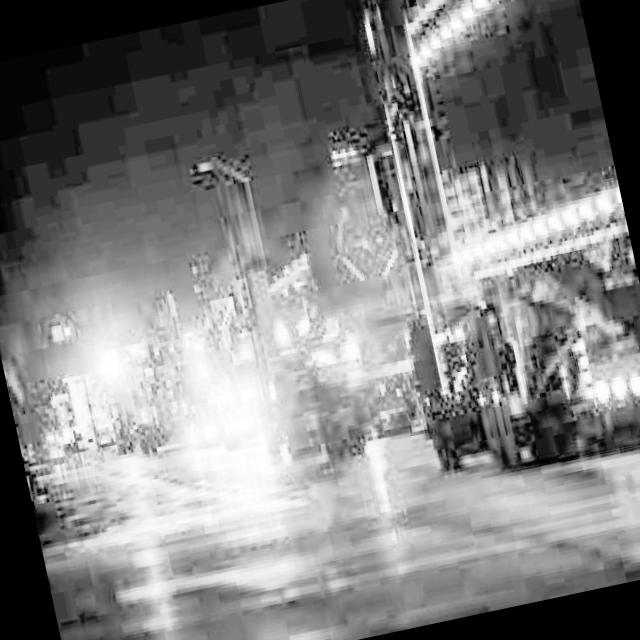Truck: (332, 0, 640, 501)
